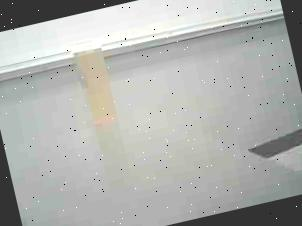Bottle A: (60, 29, 132, 144)
